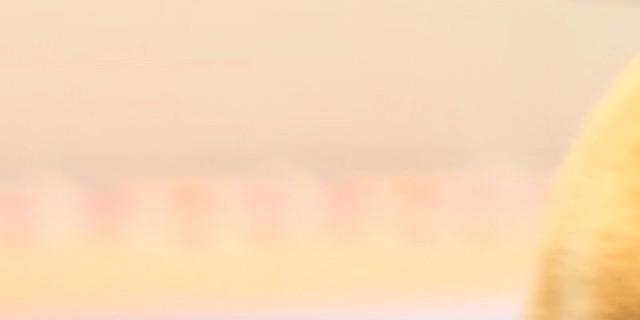burger: (340, 0, 640, 320)
